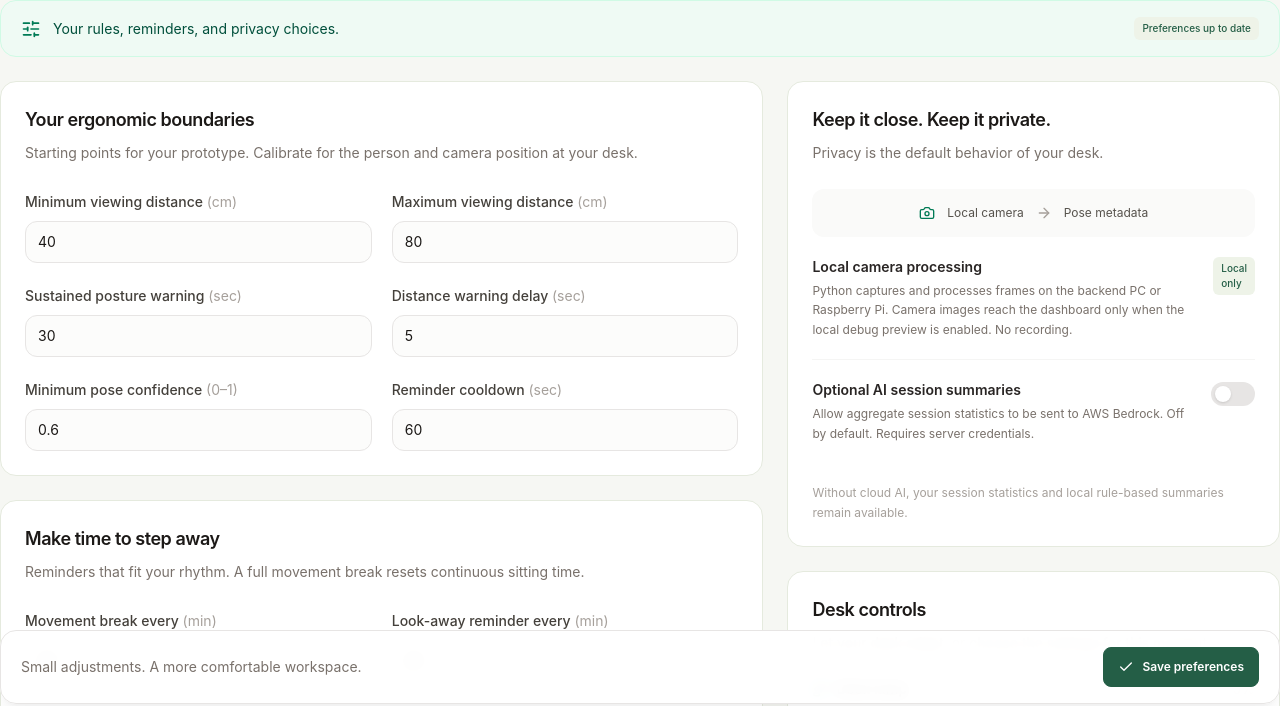
it: desk preferences › keeps unsaved edits through a state refetch and saves the selected numbers and consent
The width and height of the screenshot is (1280, 706).
expect the checkbox labelled "Optional AI session summaries" is not checked: met, box [812,359,1255,463]
Replace the text in the number field labelled "Minimum viewing distance (cm)" with "55" at x=198, y=242, box [25,221,372,263]
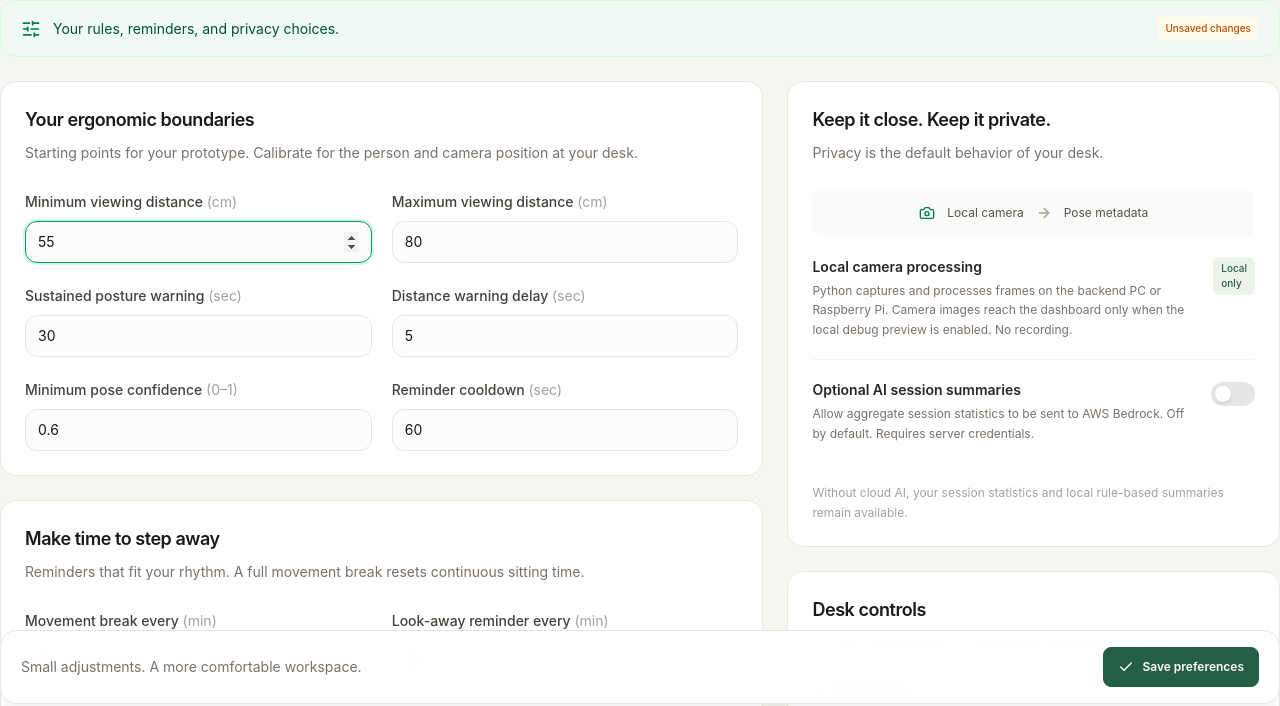
Click the checkbox labelled "Optional AI session summaries" at x=1034, y=411, box [812,359,1255,463]
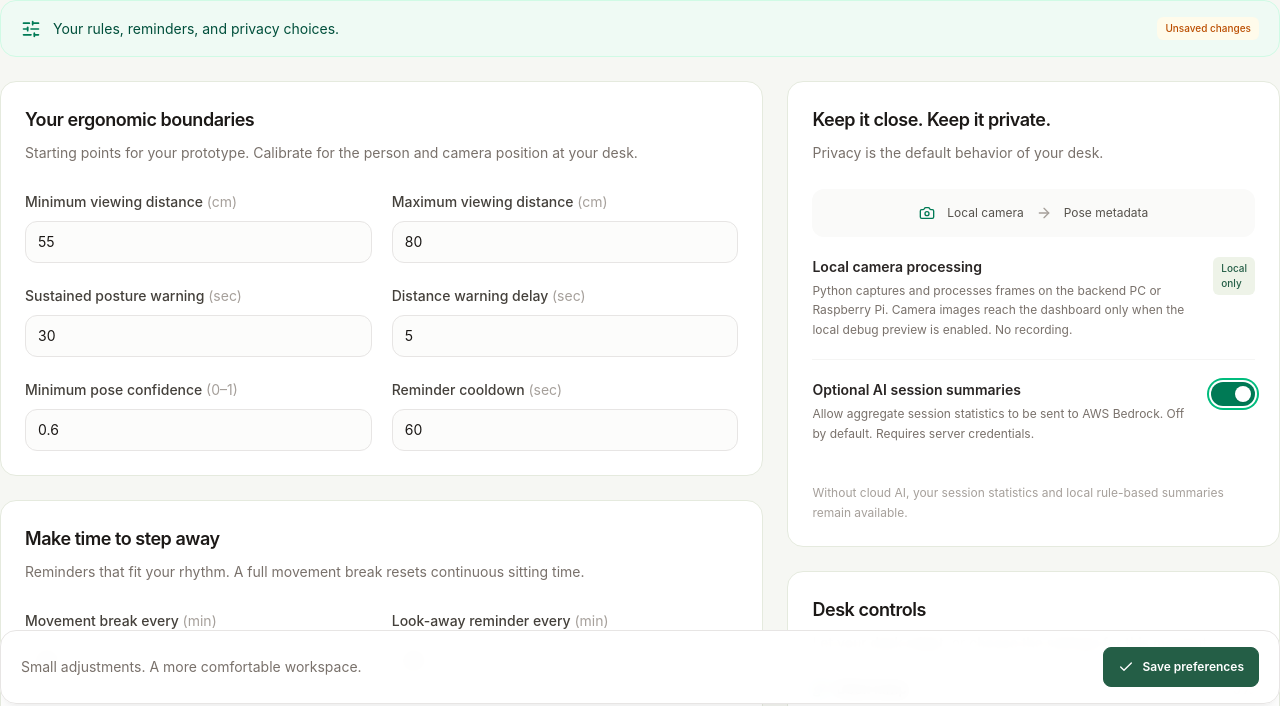
expect the checkbox labelled "Optional AI session summaries" is checked: met, box [812,359,1255,463]
expect the text "Unsaved changes" is shown: met, box [1158,17,1259,40]
Click the button "Save preferences" at x=1181, y=667, box [1103,647,1259,687]
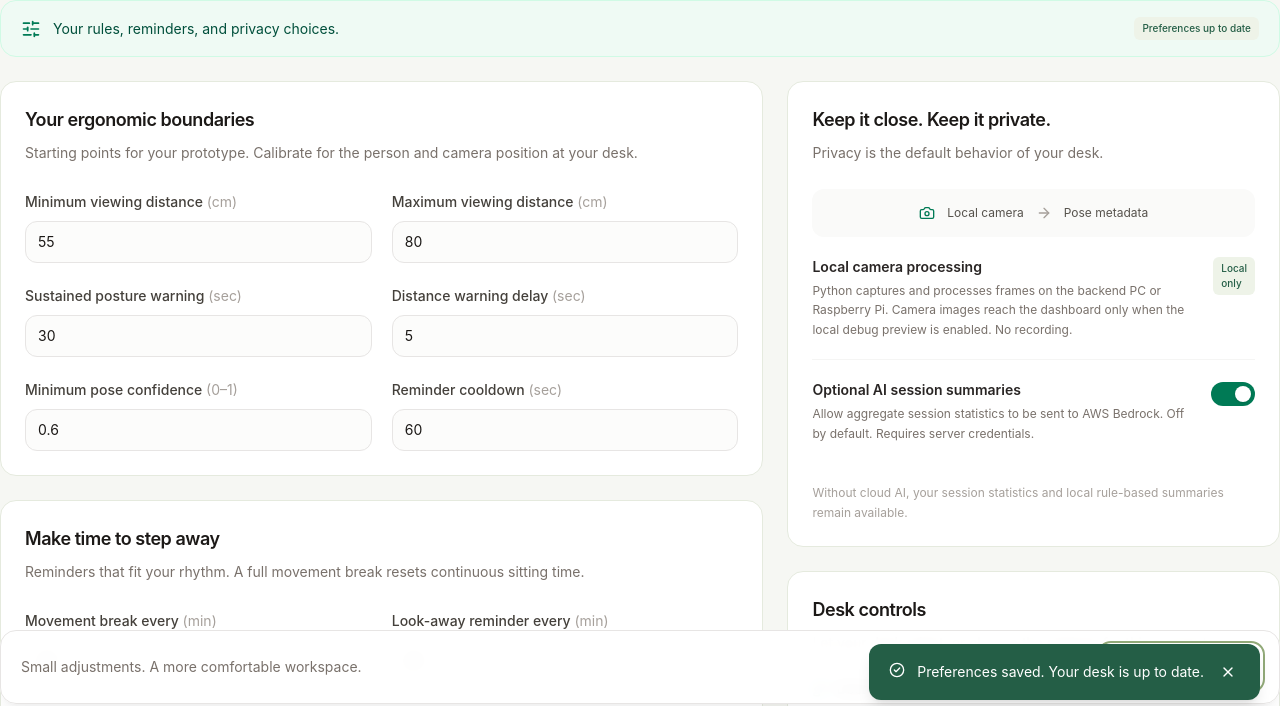
expect the text "Preferences saved. Your desk is up to date." is shown: met, box [917,660,1204,684]
expect the text "Preferences up to date" is shown: met, box [1134,17,1259,40]
